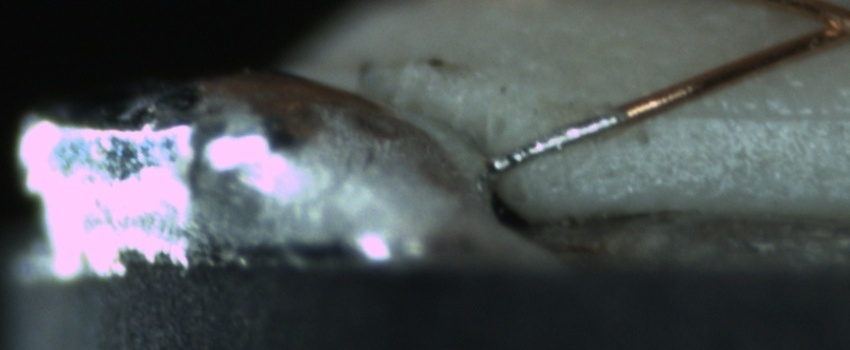CL: (802, 3, 850, 44)
DL: (667, 84, 849, 146)
TS: (490, 110, 618, 175)
